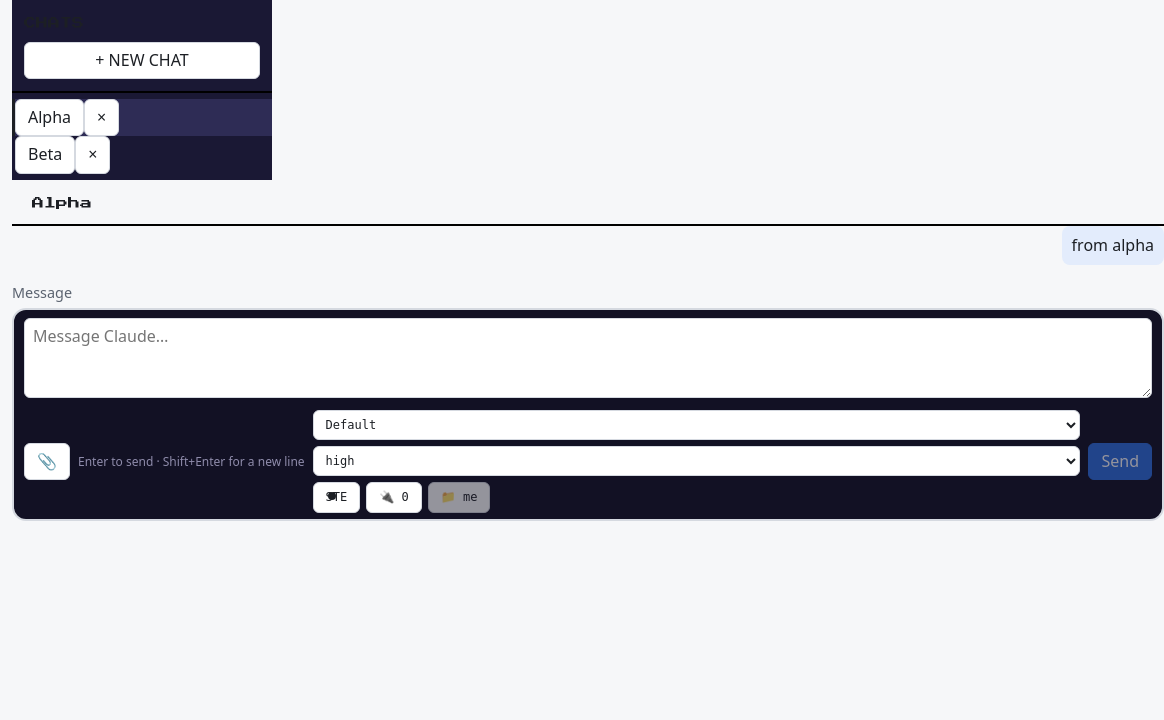
Test: opening another chat remounts the transcript so it starts at the newest entry
Expected: the text "from alpha" is shown, [1072,234,1154,256]
Click the button "Beta" at (45, 155), box [15,136,75,174]
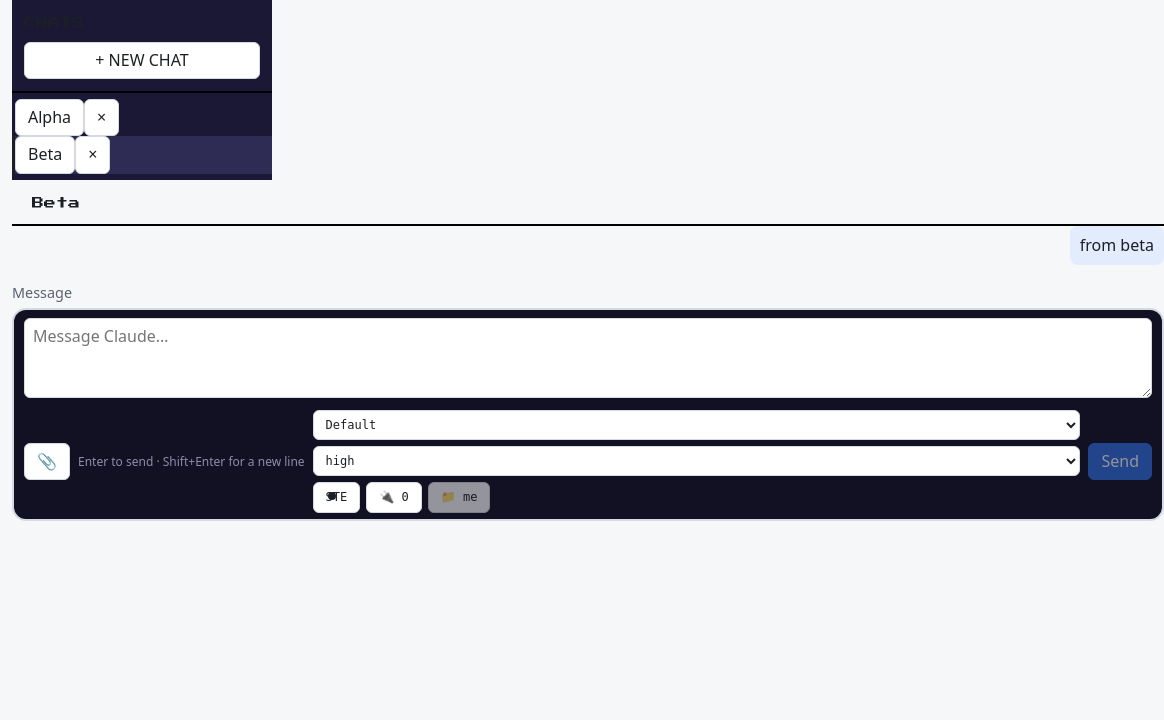
Expected: the text "from beta" is shown, [1080,234,1154,256]
